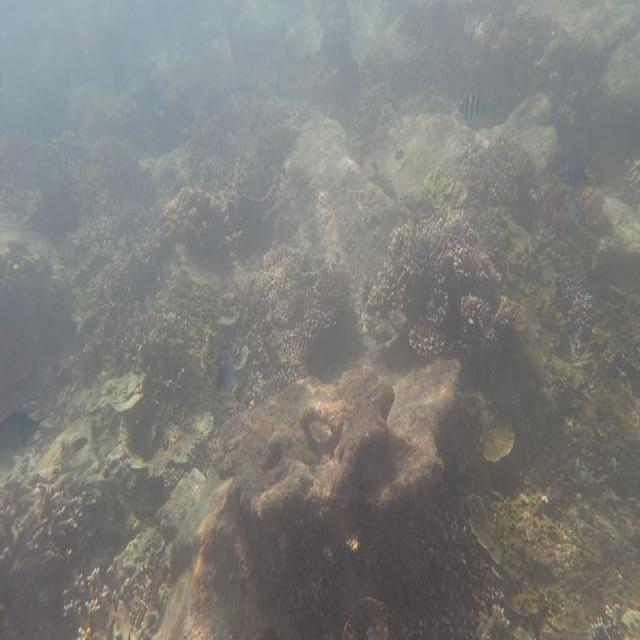fish: (459, 97, 487, 122), (558, 161, 588, 183), (569, 191, 583, 223)
reefs: (152, 361, 463, 638), (16, 95, 308, 360), (360, 211, 513, 357), (230, 250, 359, 399), (119, 312, 191, 407), (461, 130, 541, 215)
